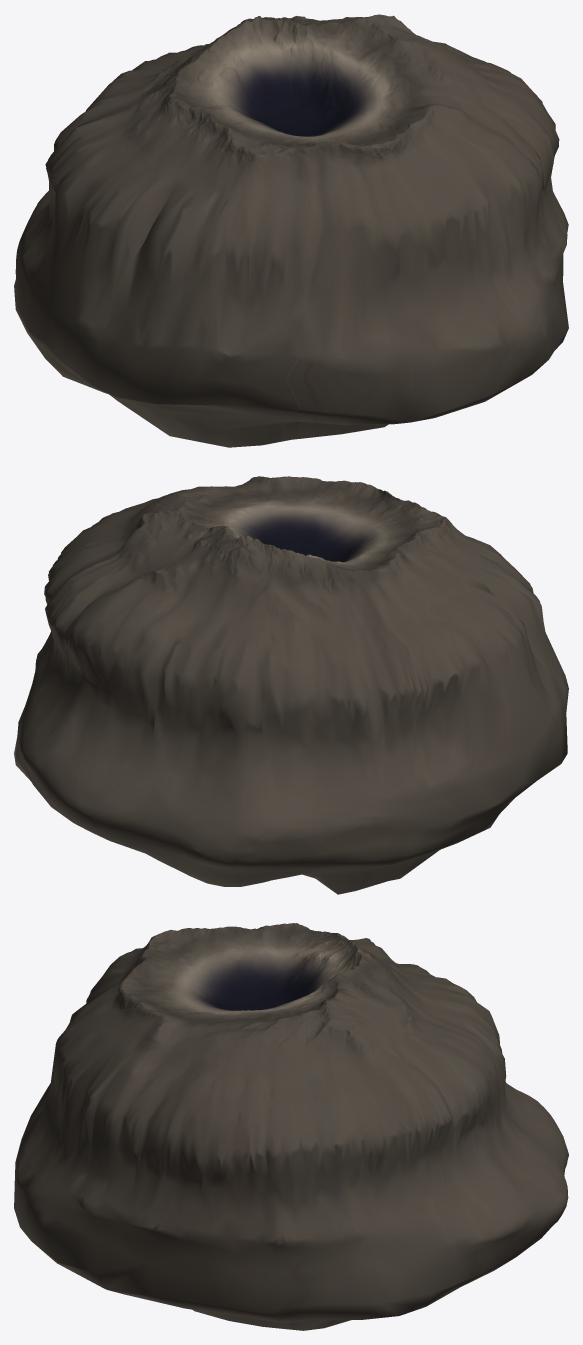
Rendered from rockring.glb.
3 renders of one model, top to bottom at view 1: azimuth 30°, elevation 25°; view 2: azimuth 150°, elevation 25°; view 3: azimuth 270°, elevation 25°, orthographic. The views are drawn at different scales.
Visible parts, largest first — view 1: Original_low; view 2: Original_low; view 3: Original_low.
Boxes of the visible parts, x1,y1,x2,y2 form: Original_low: (14,14,568,447); Original_low: (14,476,568,894); Original_low: (14,923,568,1330).
Bounding box in the file's own units: 1058 × 715 × 1076.
1 material, 1 textured.
